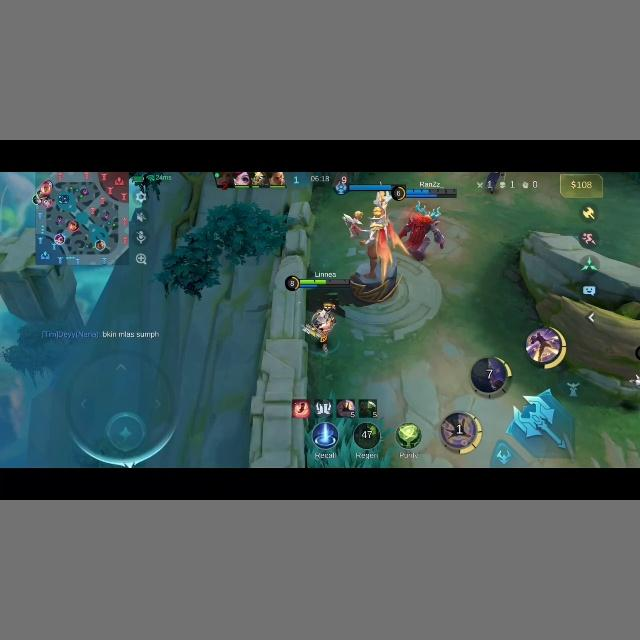hp_self: (405, 187, 456, 197)
